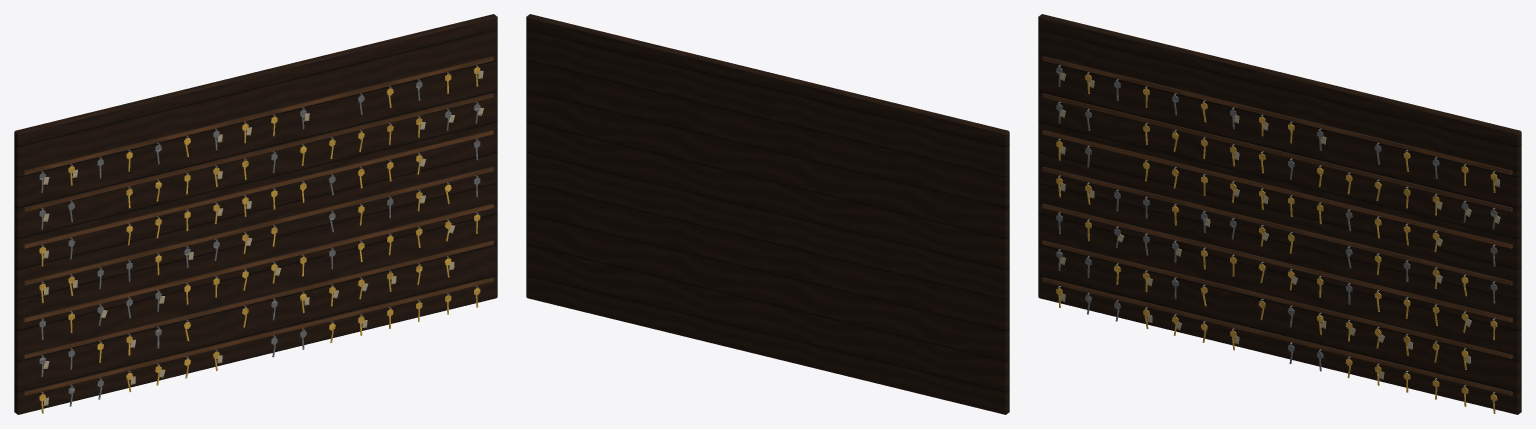
Rendered from key_wall.glb.
3 views of the same model, side by side, from view 1: azimuth 30°, elevation 25°; view 2: azimuth 150°, elevation 25°; view 3: azimuth 330°, elevation 25° (orthographic).
Visible parts, largest first — view 1: key_wall; view 2: key_wall; view 3: key_wall.
Part boxes in pixels (left/top/right/bottom): key_wall: left=14, top=14, right=497, bottom=414; key_wall: left=526, top=14, right=1009, bottom=414; key_wall: left=1038, top=14, right=1521, bottom=414.
Size of the model in its own units: 4.1 by 2.32 by 0.1.
Materials: 5 (5 with a texture image).
